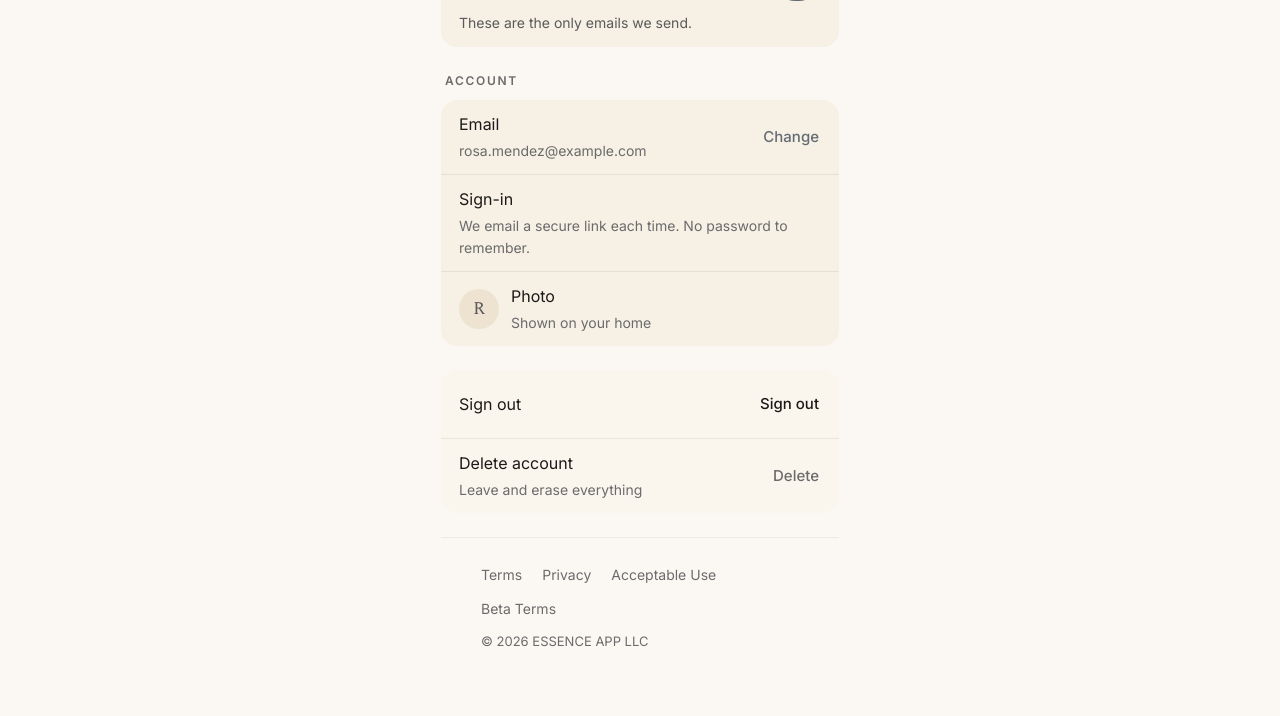
delete teardown terminals (never "closed" without an ok result) › renders the failure terminal when the teardown fails
(page scrolled)
Click the button "Delete" at (796, 476), box 771,454 -> 821,498
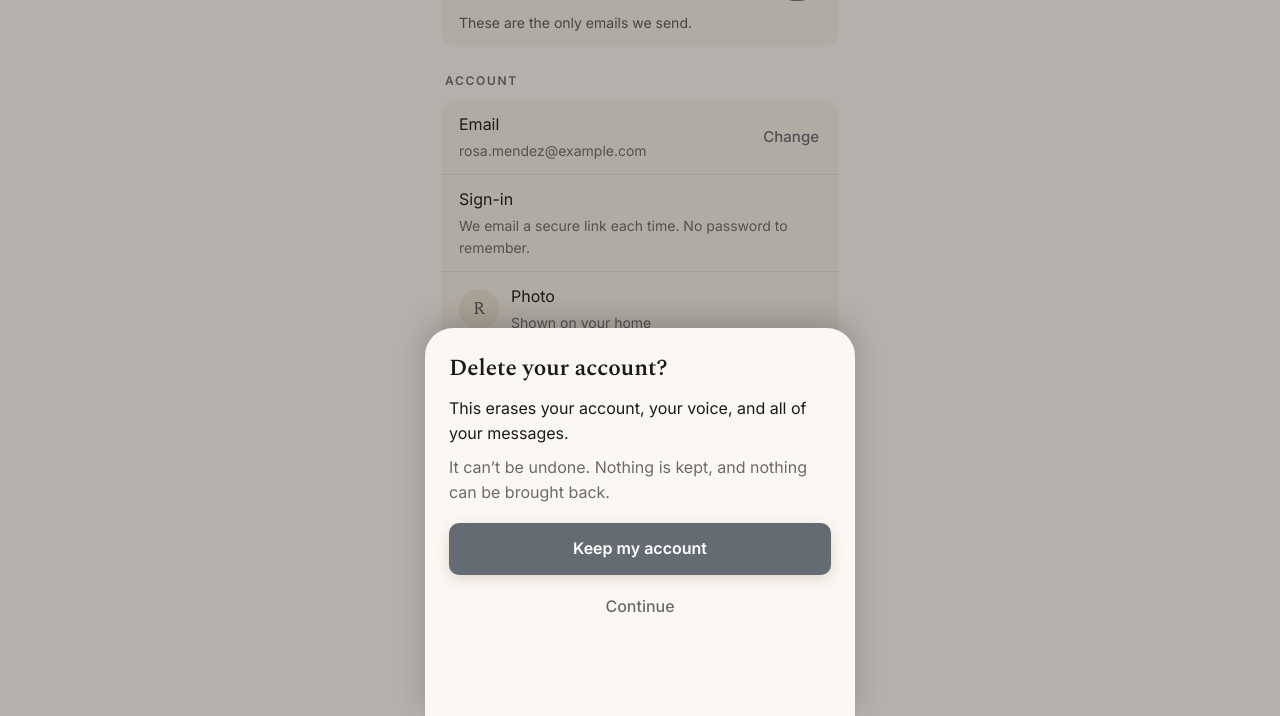
Click the button "Continue" at (640, 607), box 449,585 -> 831,629
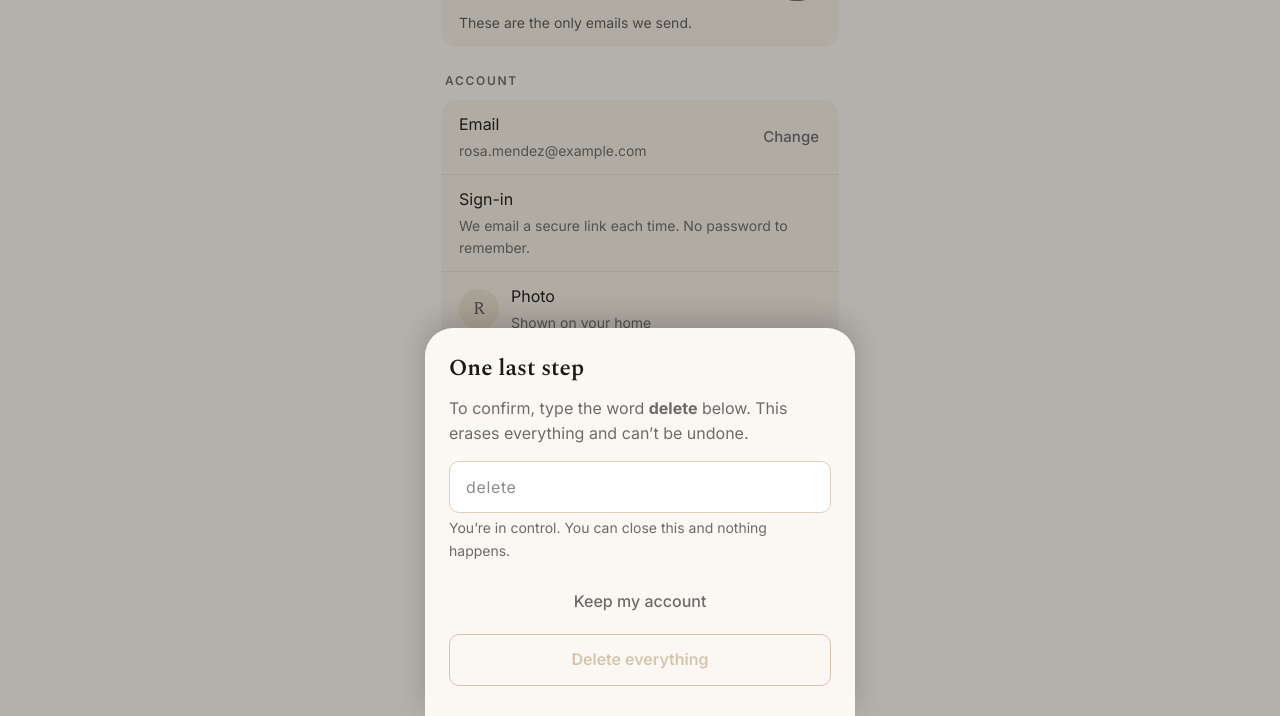
Type "DELETE" into the field named "Type delete to confirm" at (640, 487), box 449,461 -> 831,513
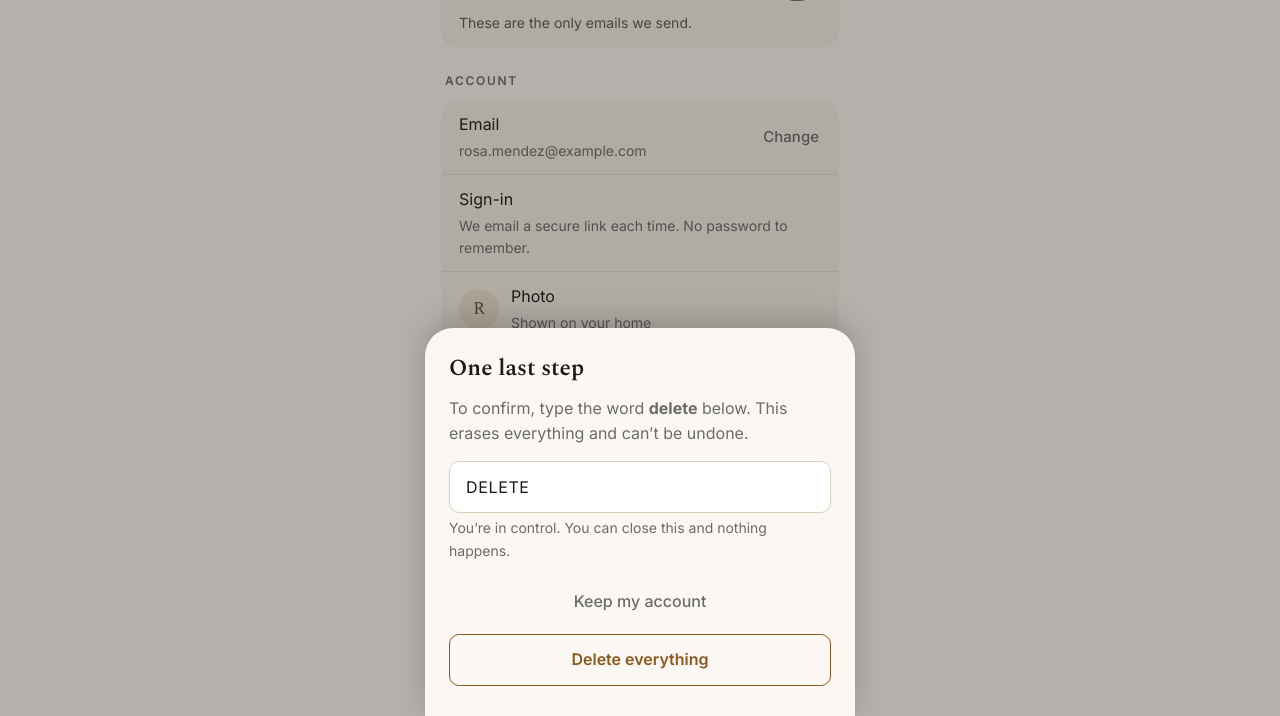
Click the button "Delete everything" at (640, 660), box 449,634 -> 831,686
(page scrolled)
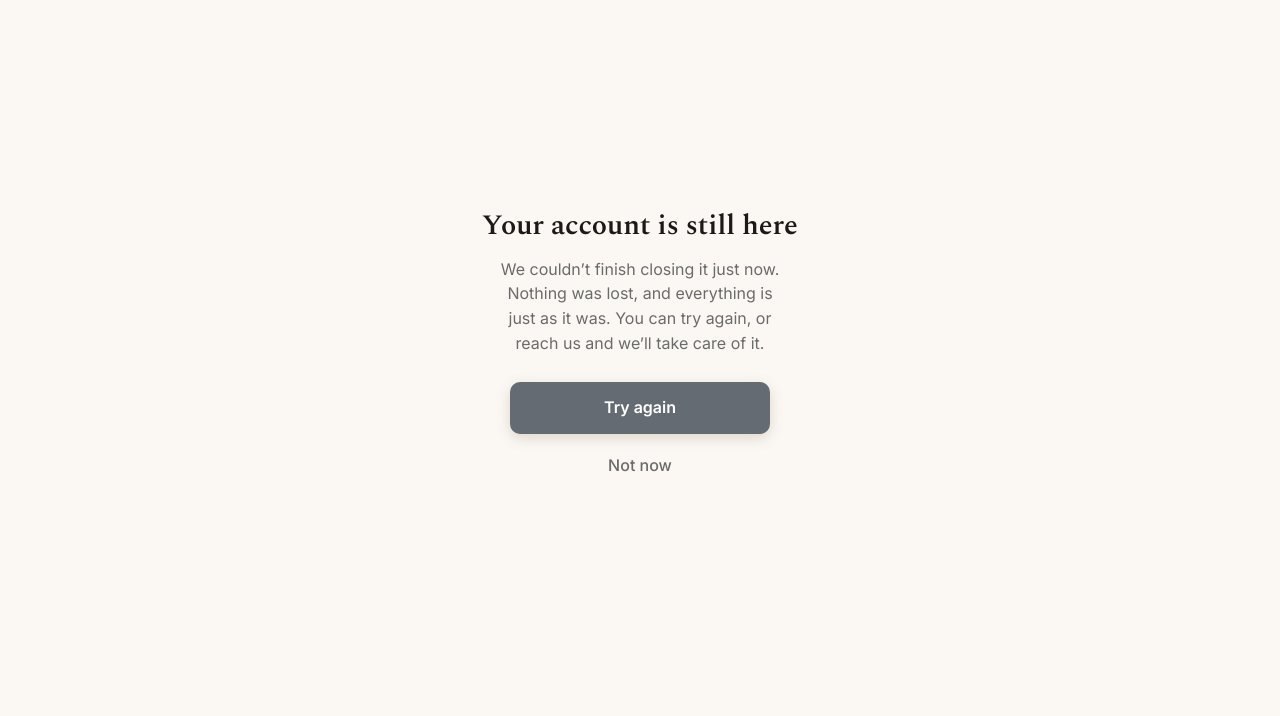
Expected: the heading "Your account is still here" is shown, 482,208 -> 798,245
